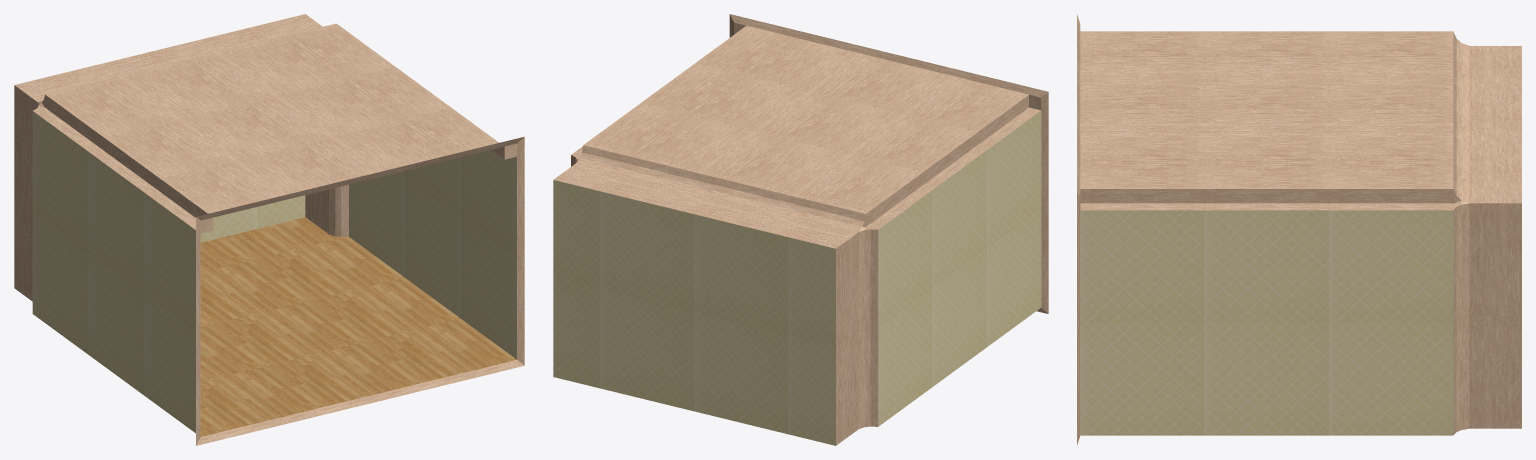
File: livingroom_1.FBX
The picture shows the model from 3 angles, left to right: view 1: azimuth 30°, elevation 25°; view 2: azimuth 150°, elevation 25°; view 3: azimuth 270°, elevation 25°; orthographic projection. The views are drawn at different scales.
Visible parts, largest first — view 1: Plane001; view 2: Plane001; view 3: Plane001.
Boxes of the visible parts, x1,y1,x2,y2 form: Plane001: [14, 14, 524, 445]; Plane001: [553, 14, 1048, 445]; Plane001: [1077, 14, 1521, 445].
Bounding box in the file's own units: 339 × 226 × 358.
